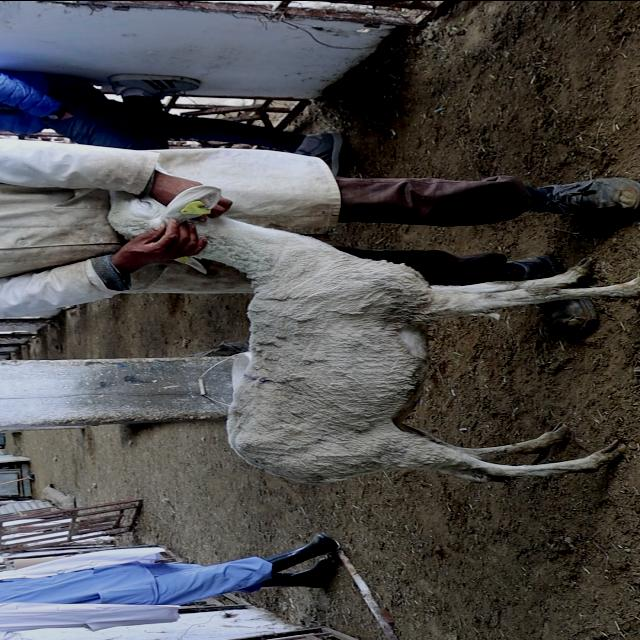Score_1: (108, 184, 639, 483)
